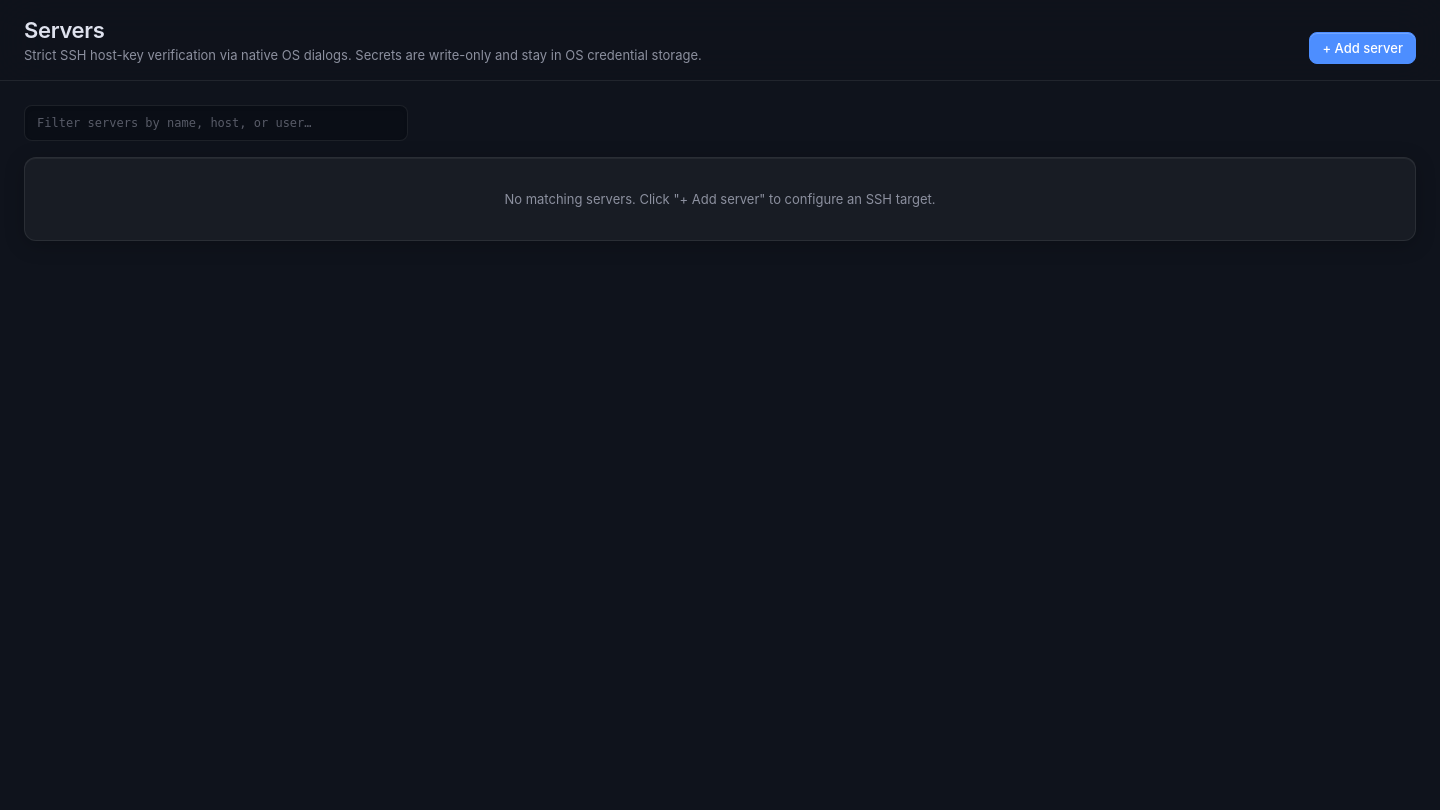
Test: ServerForm › swaps the secret field for a key-path field when key auth is selected
Expected: the text "No matching servers" is shown, 504,191 -> 936,207
Click the button with test id "add-server". click: (1363, 48)
box: 1309,32 -> 1416,64
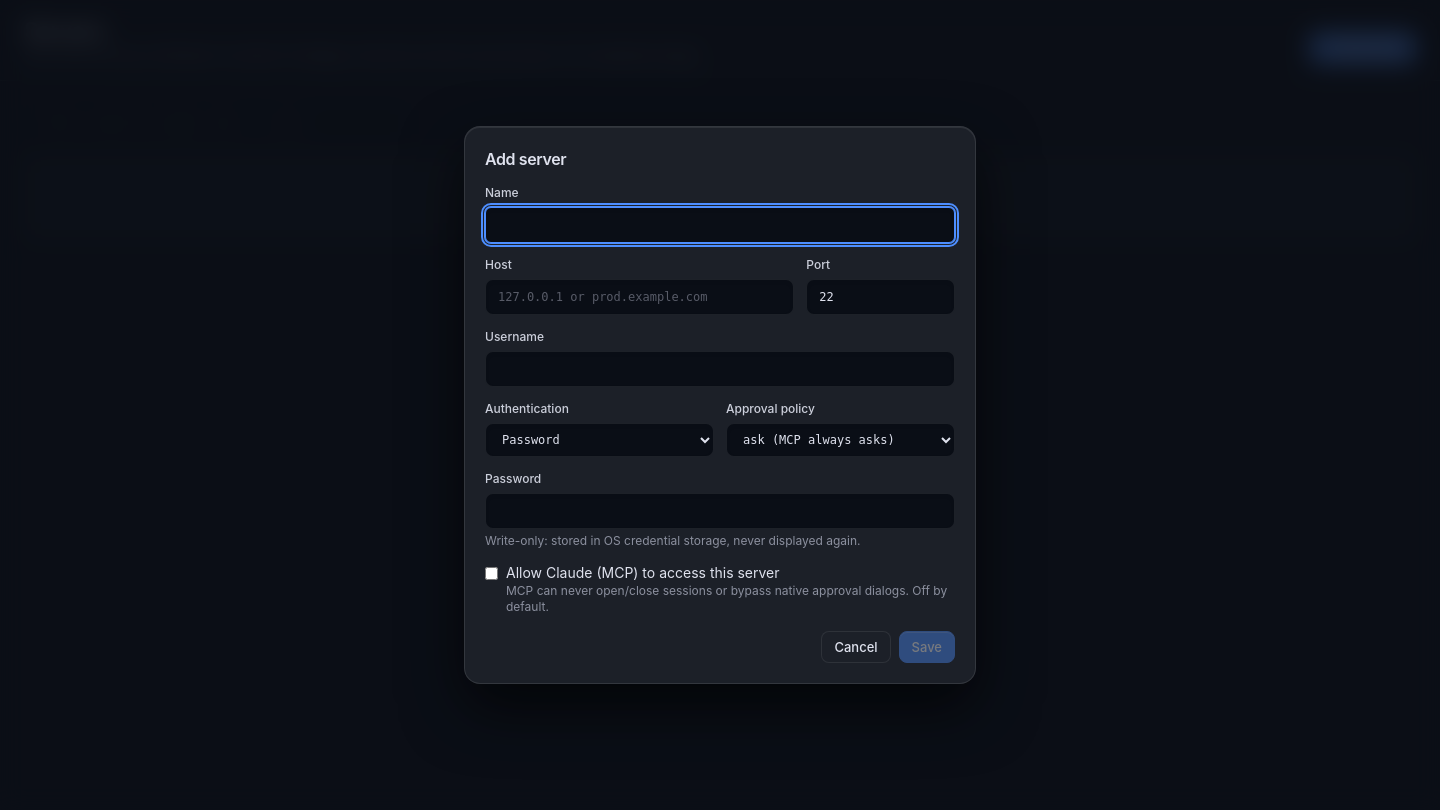
Select "Private key (file path)" in the dropdown with test id "f-auth". click: (600, 440)
box: 485,423 -> 714,457
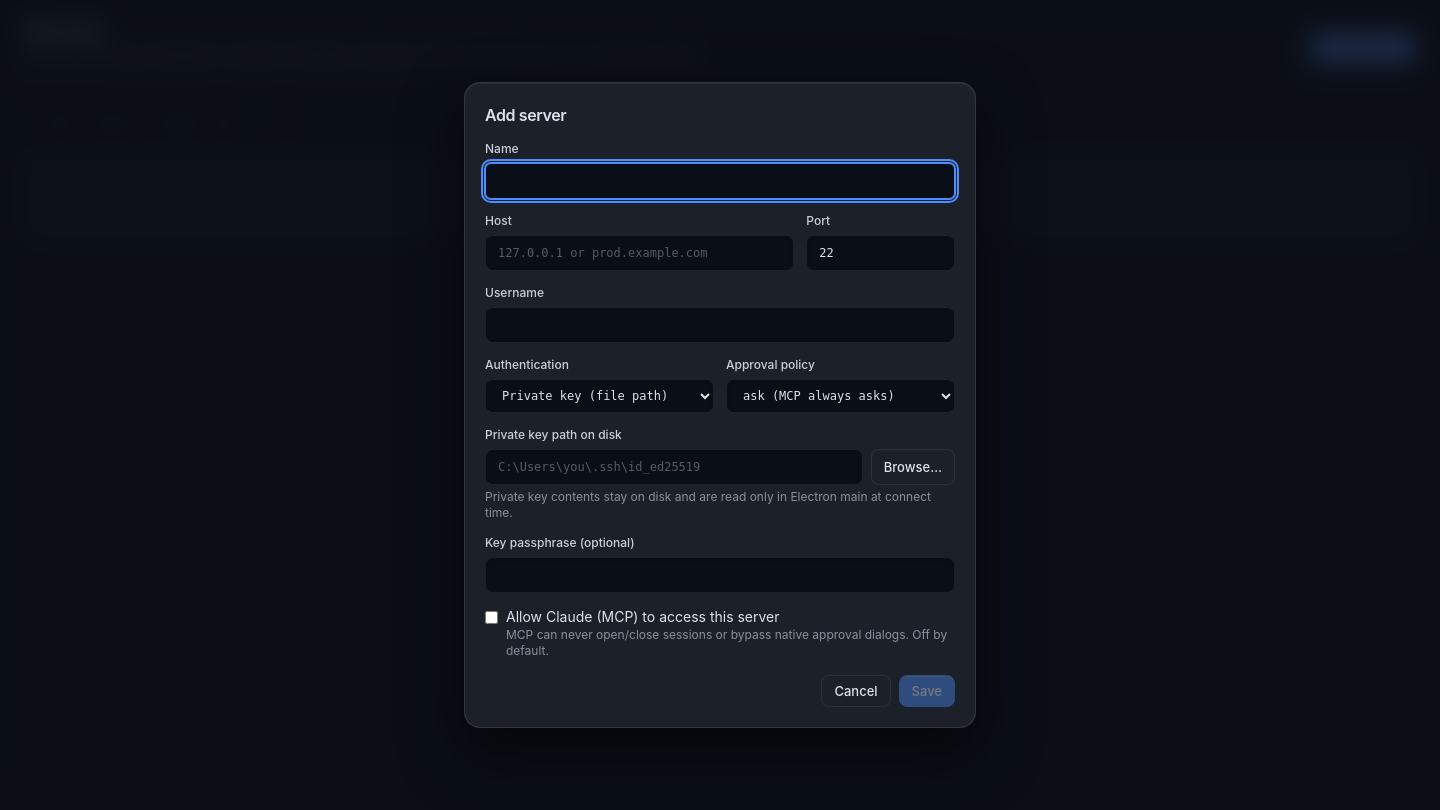
Result: the password field with test id "f-secret" is gone
Result: the field with test id "f-keypath" is shown at 485,449 -> 863,485
